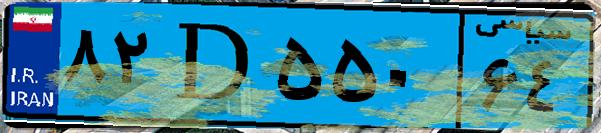0: (385, 28, 445, 110)
2: (110, 28, 158, 98)
4: (525, 38, 570, 115)
5: (270, 28, 330, 110), (330, 28, 385, 110)
6: (475, 38, 525, 113)
8: (57, 26, 110, 100)
D: (158, 12, 270, 120)
